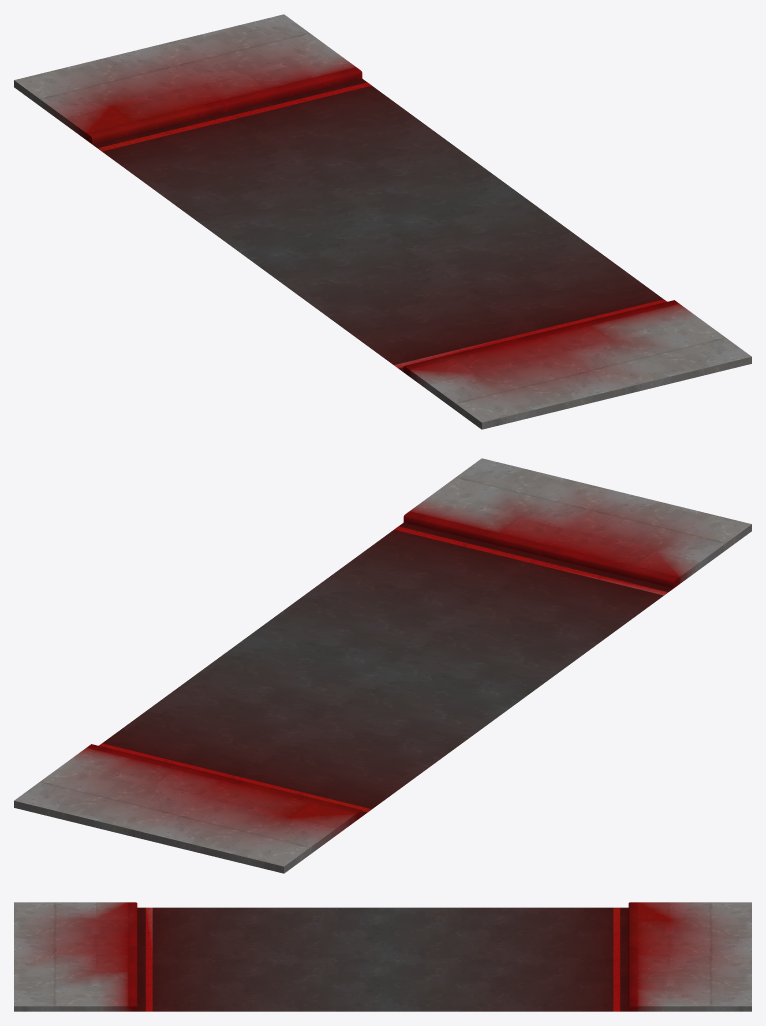
Rendered from Street_4Lane.gltf.
The picture shows the model from 3 angles, top to bottom: view 1: azimuth 30°, elevation 25°; view 2: azimuth 150°, elevation 25°; view 3: azimuth 270°, elevation 25°; orthographic projection. The views are drawn at different scales.
Parts seen in each view (by area): view 1: Street_4Lane; view 2: Street_4Lane; view 3: Street_4Lane.
Boxes of the visible parts, x1,y1,x2,y2 form: Street_4Lane: [14, 14, 751, 429]; Street_4Lane: [14, 458, 751, 873]; Street_4Lane: [14, 902, 751, 1011].
Bounding box in the file's own units: 6 × 0.15 × 18.
3 materials, 3 textured.
